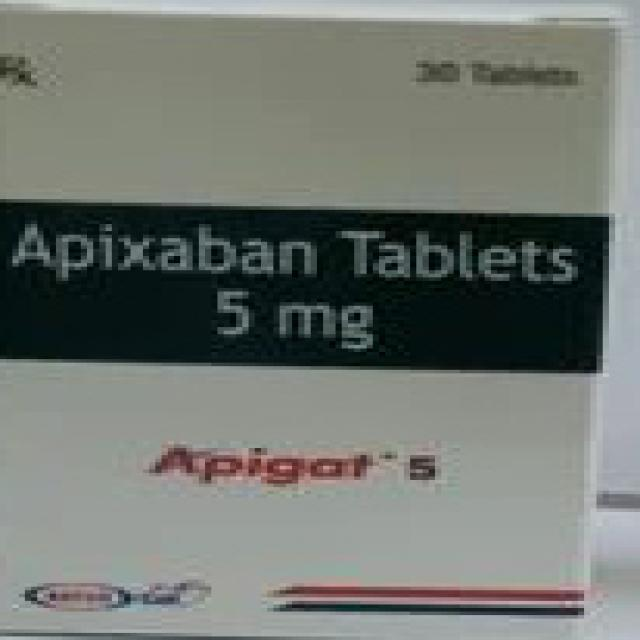drug-name: (144, 438, 442, 490)
